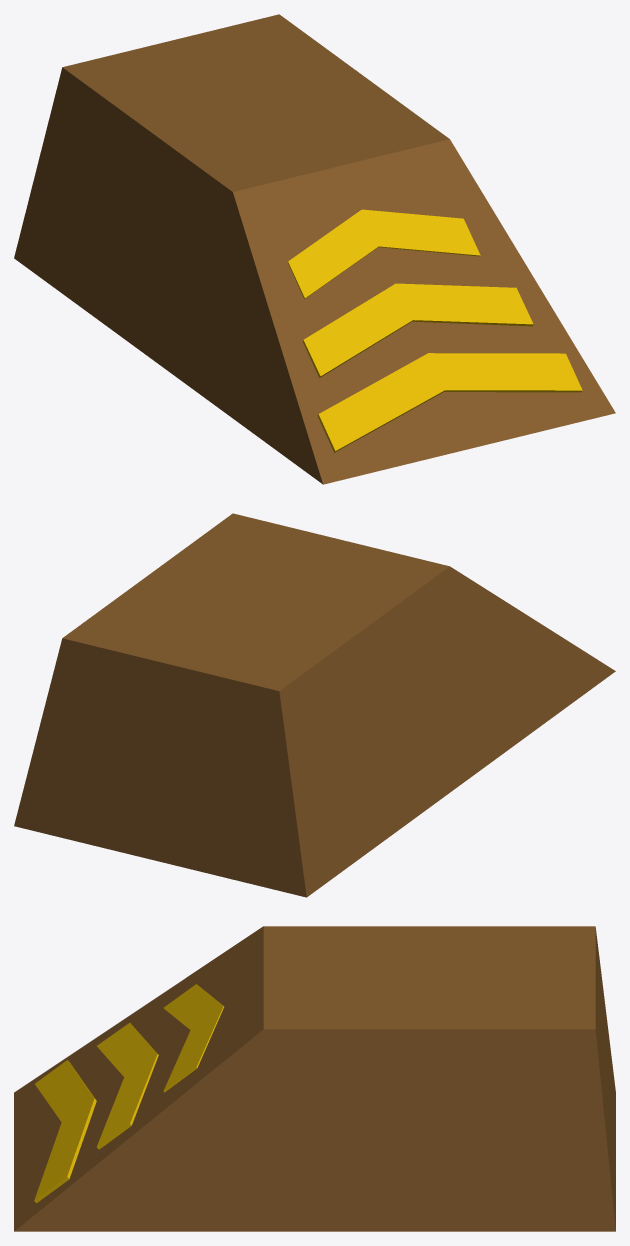
File: Rampa_v001.fbx
The picture shows the model from 3 angles, top to bottom: view 1: azimuth 30°, elevation 25°; view 2: azimuth 150°, elevation 25°; view 3: azimuth 270°, elevation 25°; orthographic projection. The views are drawn at different scales.
Parts seen in each view (by area): view 1: Cube.002, Cube.004, Cube.003, Cube.005; view 2: Cube.002; view 3: Cube.002, Cube.004, Cube.003, Cube.005.
Part boxes in pixels (x1,y1,x2,y2): Cube.002: [14, 14, 615, 484]; Cube.004: [317, 353, 582, 452]; Cube.003: [302, 283, 533, 377]; Cube.005: [287, 209, 480, 298]; Cube.002: [14, 513, 615, 897]; Cube.002: [14, 926, 615, 1231]; Cube.004: [34, 1060, 96, 1203]; Cube.003: [97, 1023, 158, 1149]; Cube.005: [163, 984, 224, 1092].
Size of the model in its own units: 395 by 244 by 723.
